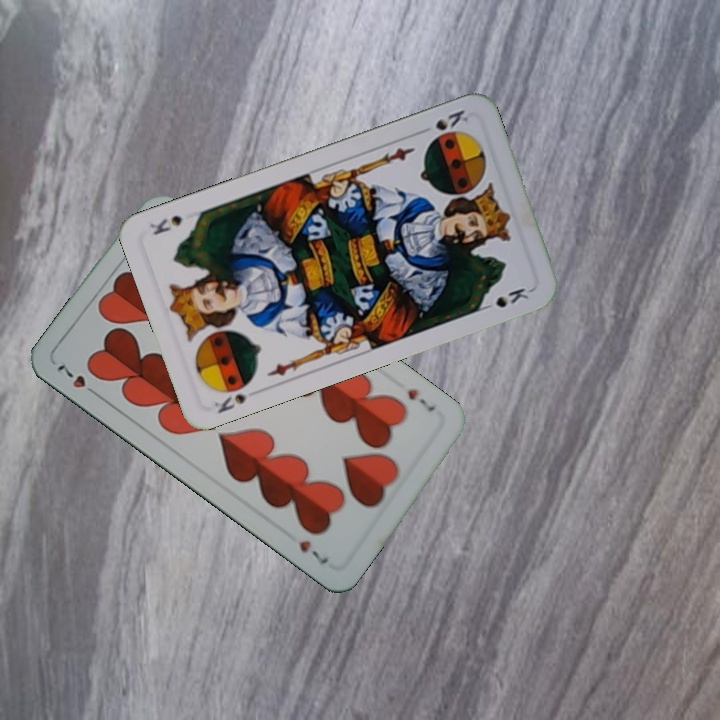H7: (52, 360, 102, 400), (403, 384, 440, 416)
SK: (428, 105, 473, 142), (210, 390, 250, 416)
